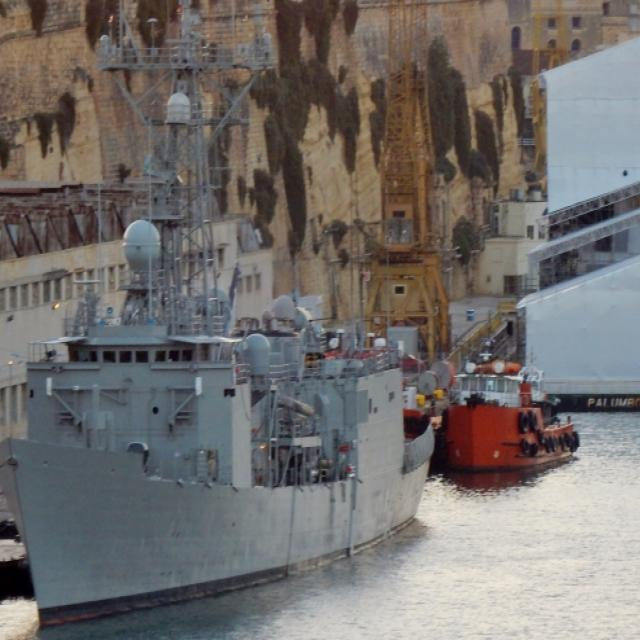Fragata: (1, 1, 441, 632)
